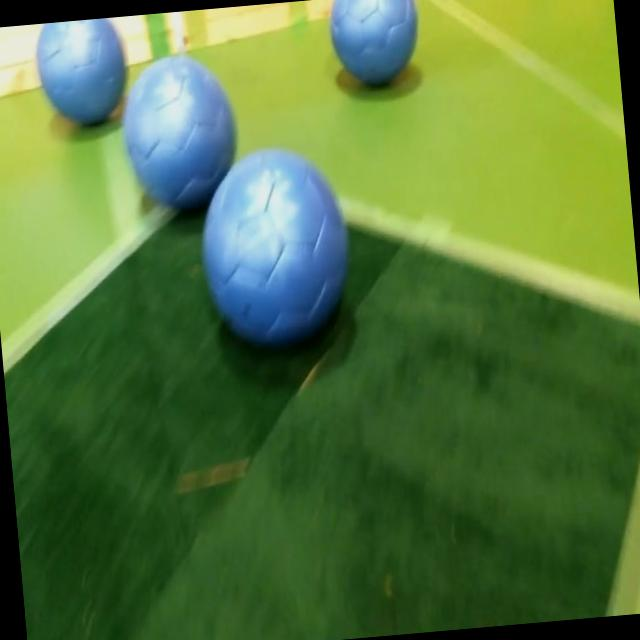blue_ball: (195, 146, 358, 352), (118, 50, 244, 214), (29, 17, 123, 130), (326, 0, 421, 91)
